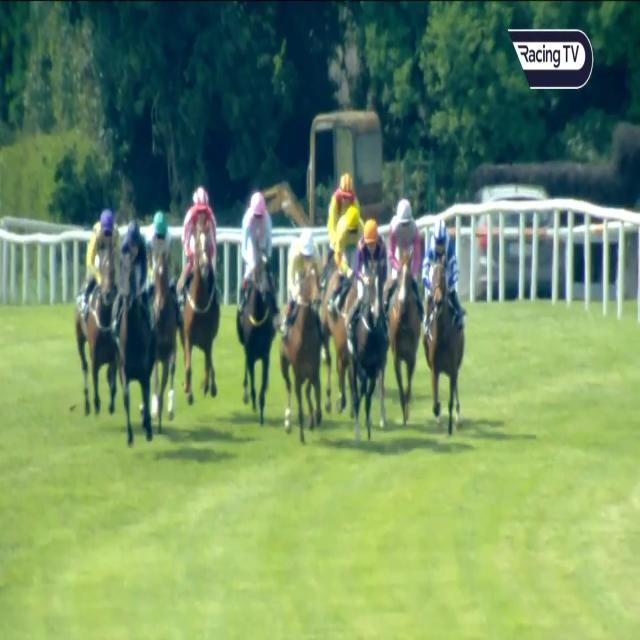horses-racing: (230, 192, 280, 422), (179, 187, 222, 407), (75, 209, 120, 414), (283, 224, 322, 451), (346, 213, 385, 440), (112, 216, 150, 442), (427, 212, 464, 440), (384, 194, 420, 423), (325, 205, 362, 417), (145, 208, 179, 426), (322, 173, 363, 252)
